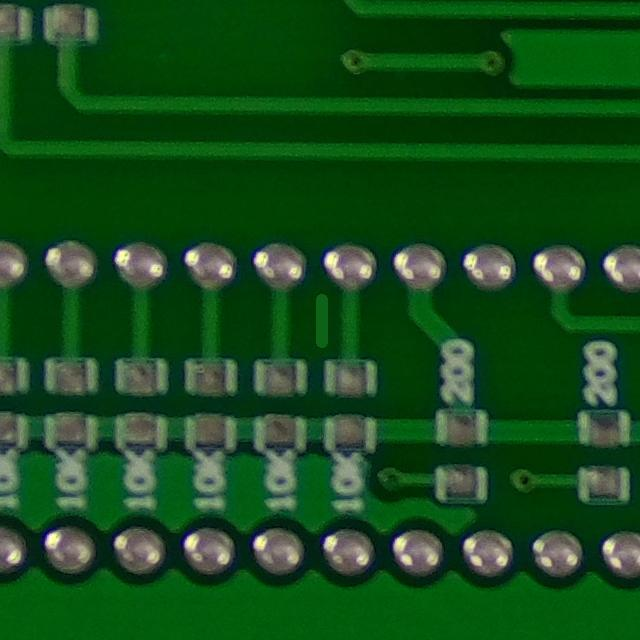spurious_copper: (297, 285, 343, 356)
